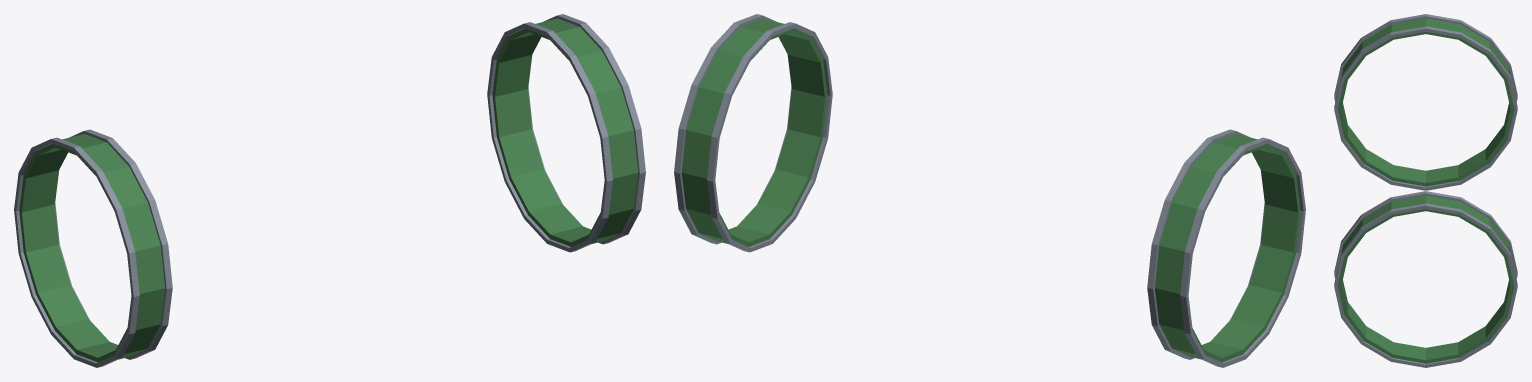
Rendered from armor_lord_arms_uncommon_orc.glb.
The picture shows the model from 3 angles, left to right: view 1: azimuth 30°, elevation 25°; view 2: azimuth 150°, elevation 25°; view 3: azimuth 270°, elevation 25°; orthographic projection. The views are drawn at different scales.
Parts seen in each view (by area): view 1: armor_lord_arms_uncommon_orc__lowerarm_l, armor_lord_arms_uncommon_orc__lowerarm_r; view 2: armor_lord_arms_uncommon_orc__lowerarm_l, armor_lord_arms_uncommon_orc__lowerarm_r; view 3: armor_lord_arms_uncommon_orc__lowerarm_l, armor_lord_arms_uncommon_orc__lowerarm_r.
Part boxes in pixels (x1,y1,x2,y2): armor_lord_arms_uncommon_orc__lowerarm_l: [487, 14, 645, 252]; armor_lord_arms_uncommon_orc__lowerarm_r: [14, 129, 172, 367]; armor_lord_arms_uncommon_orc__lowerarm_l: [674, 14, 832, 252]; armor_lord_arms_uncommon_orc__lowerarm_r: [1147, 129, 1305, 367]; armor_lord_arms_uncommon_orc__lowerarm_l: [1334, 191, 1517, 367]; armor_lord_arms_uncommon_orc__lowerarm_r: [1334, 14, 1517, 190].
Bounding box in the file's own units: 118 × 46.41 × 47.6.
